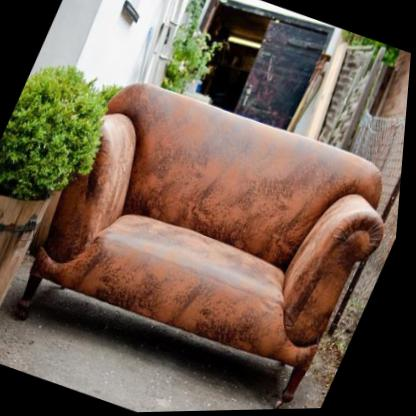Sofa: (0, 60, 412, 416)
